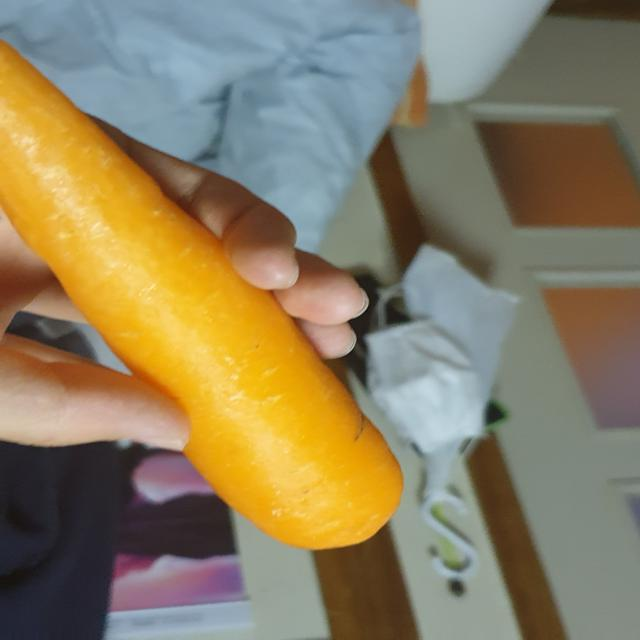carrot: (1, 38, 410, 559)
